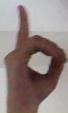D1: (0, 1, 68, 113)
